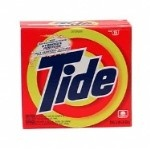grozi_34: (18, 18, 132, 129)
